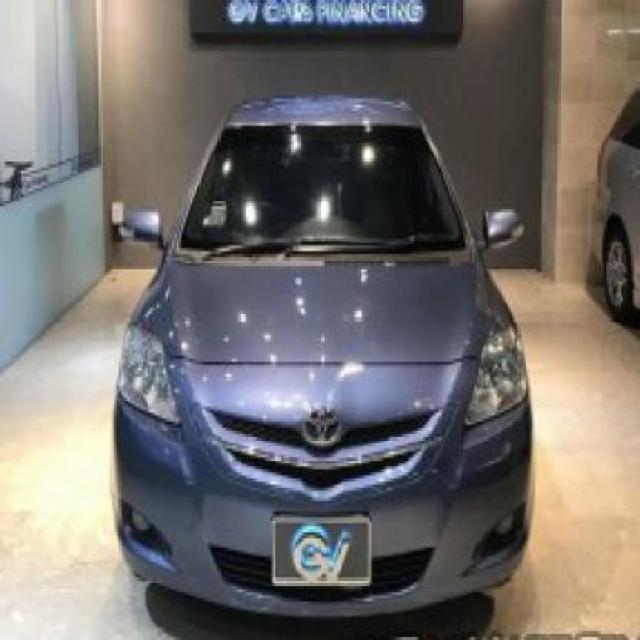ToyotaVios: (110, 93, 536, 622)
